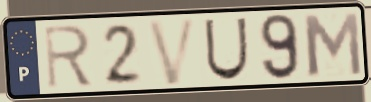2: (101, 21, 145, 88)
9: (259, 12, 302, 82)
M: (299, 10, 365, 78)
R: (41, 22, 95, 91)
U: (202, 16, 250, 83)
V: (145, 15, 201, 88)
